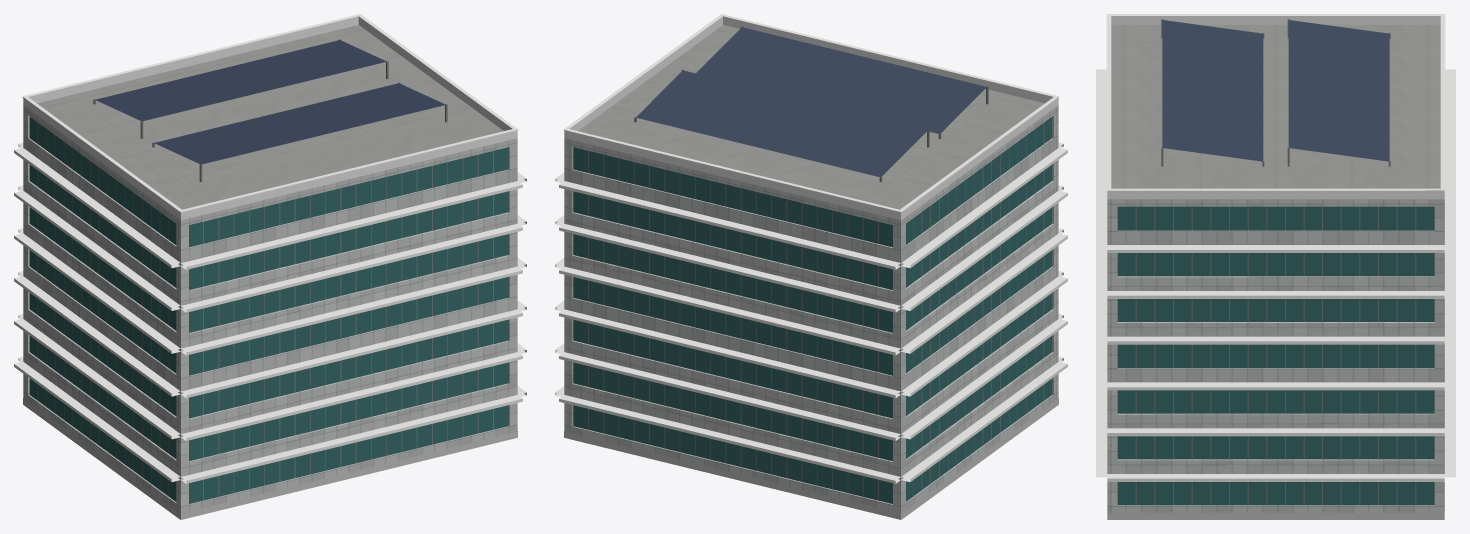
3 renders of one model, left to right at view 1: azimuth 30°, elevation 25°; view 2: azimuth 150°, elevation 25°; view 3: azimuth 270°, elevation 25°, orthographic. The views are drawn at different scales.
Parts seen in each view (by area): view 1: mediheal__glass, mediheal__wall, mediheal__trim, mediheal__roof, mediheal__pv, mediheal__parapet, mediheal__frame, mediheal__base; view 2: mediheal__glass, mediheal__wall, mediheal__trim, mediheal__pv, mediheal__roof, mediheal__parapet, mediheal__frame, mediheal__base; view 3: mediheal__glass, mediheal__wall, mediheal__trim, mediheal__roof, mediheal__pv, mediheal__parapet, mediheal__frame, mediheal__base.
Part boxes in pixels (box(x1,y1,x2,y2)): mediheal__glass: box(29, 117, 508, 503); mediheal__wall: box(23, 105, 517, 519); mediheal__trim: box(14, 14, 526, 483); mediheal__roof: box(37, 25, 503, 209); mediheal__pv: box(95, 40, 445, 164); mediheal__parapet: box(23, 16, 517, 220); mediheal__frame: box(37, 39, 493, 500); mediheal__base: box(23, 398, 517, 519); mediheal__glass: box(573, 117, 1052, 503); mediheal__wall: box(564, 105, 1058, 519); mediheal__trim: box(555, 14, 1067, 483); mediheal__pv: box(636, 27, 986, 177); mediheal__roof: box(578, 25, 1044, 209); mediheal__parapet: box(564, 16, 1058, 220); mediheal__frame: box(588, 26, 1044, 500); mediheal__base: box(564, 398, 1058, 519); mediheal__glass: box(1117, 206, 1434, 505); mediheal__wall: box(1107, 199, 1444, 512); mediheal__trim: box(1096, 14, 1455, 481); mediheal__roof: box(1111, 25, 1440, 188); mediheal__pv: box(1162, 20, 1389, 161); mediheal__parapet: box(1107, 16, 1444, 199); mediheal__frame: box(1135, 19, 1416, 505); mediheal__base: box(1107, 513, 1444, 519).
Bounding box in the file's own units: 34.76 × 30.4 × 28.51.
8 materials, 2 textured.
